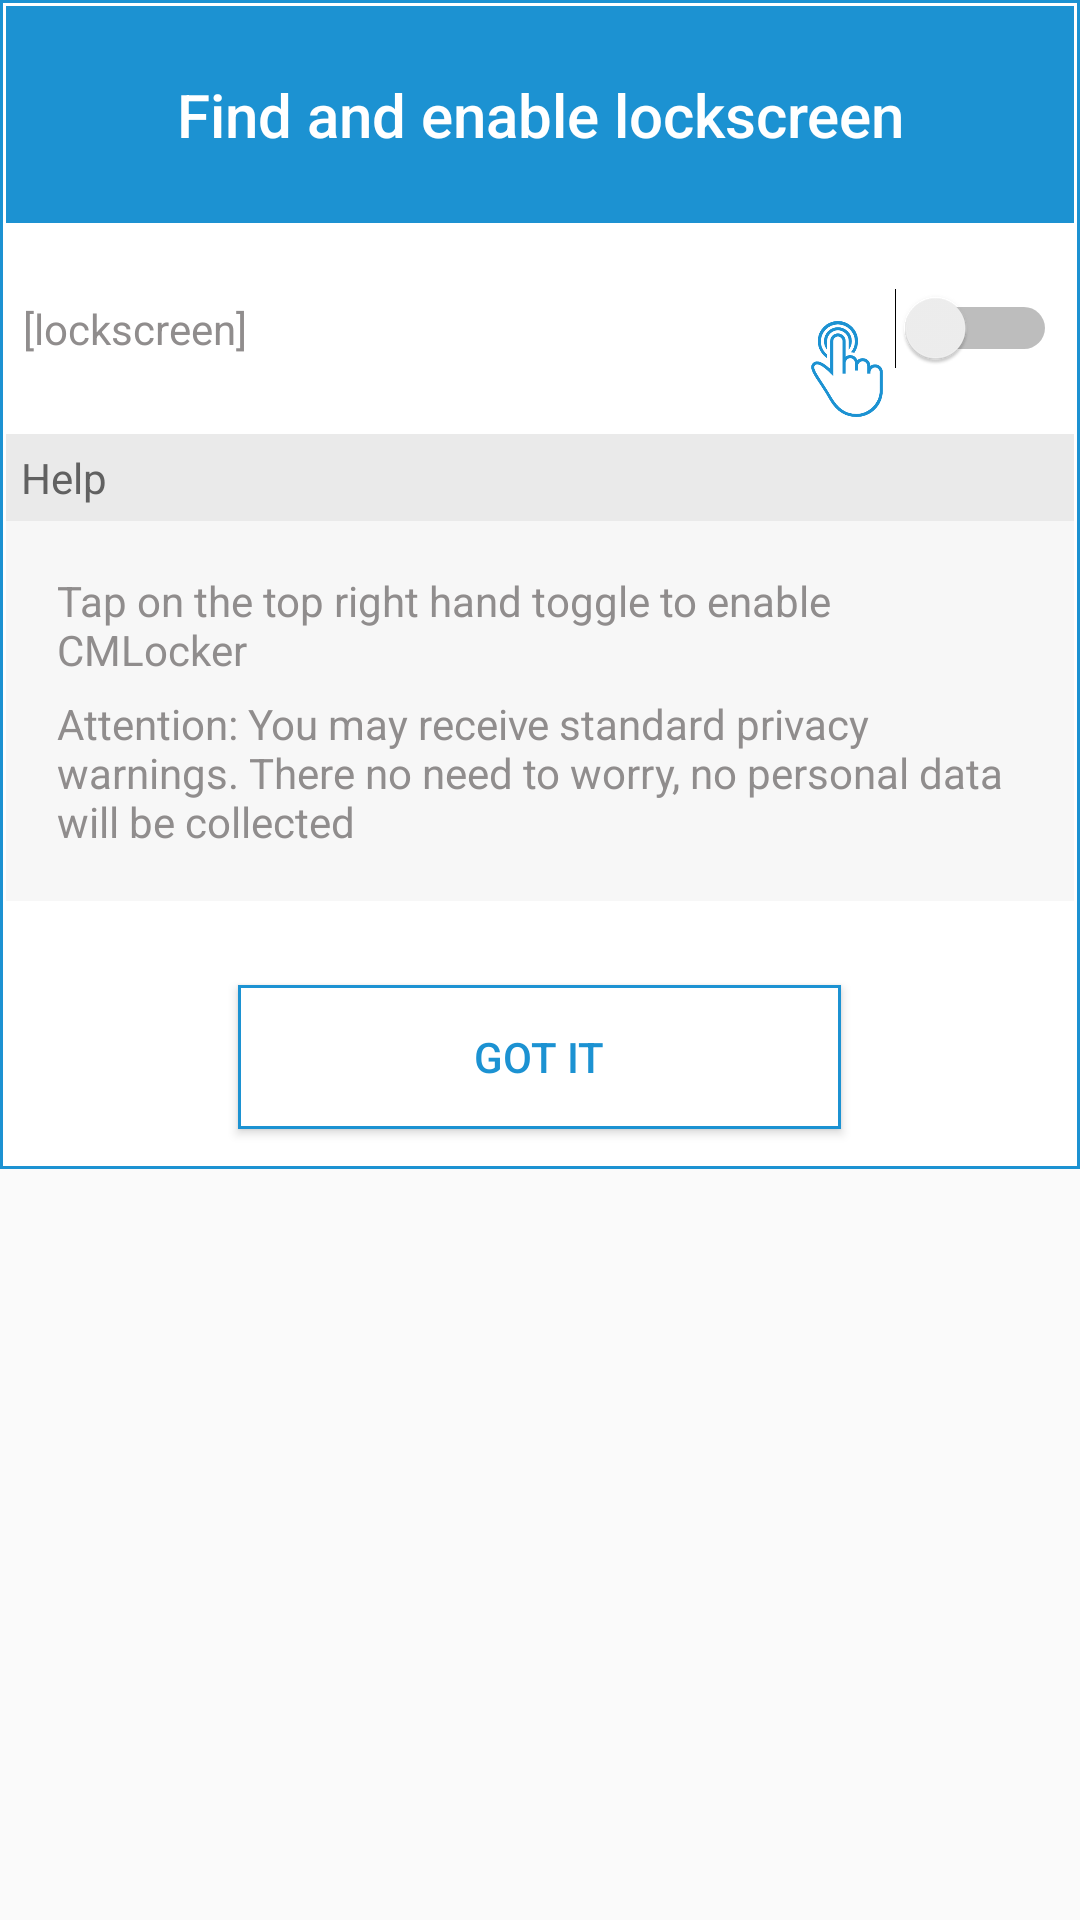

Icon click points for this 1080x1920 phone screenshot, format [x,y]:
ban tay: [847,369]
